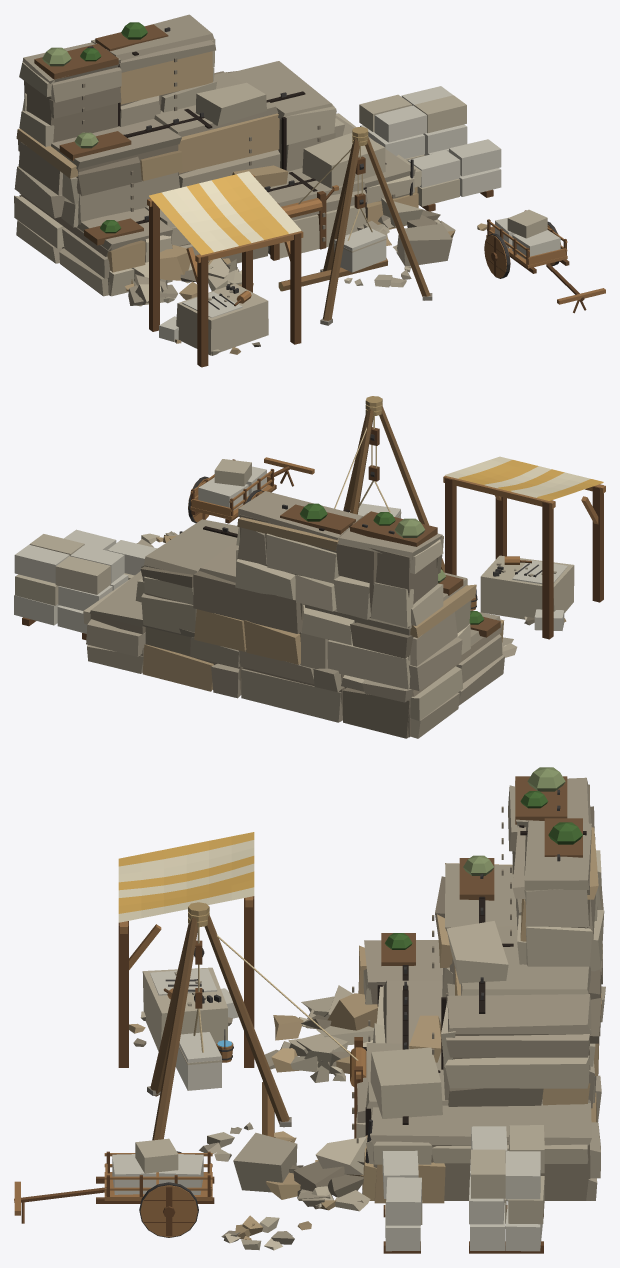
Rendered from Steinbruch.fbx.
The picture shows the model from 3 angles, top to bottom: view 1: azimuth 30°, elevation 25°; view 2: azimuth 150°, elevation 25°; view 3: azimuth 270°, elevation 25°; orthographic projection. The views are drawn at different scales.
Parts seen in each view (by area): view 1: Steinbruch_0; view 2: Steinbruch_0; view 3: Steinbruch_0.
Boxes of the visible parts, left/top/right/bottom form: Steinbruch_0: left=14, top=14, right=605, bottom=367; Steinbruch_0: left=14, top=396, right=605, bottom=738; Steinbruch_0: left=14, top=767, right=605, bottom=1253.
Bounding box in the file's own units: 3.53 × 1.59 × 3.4.
